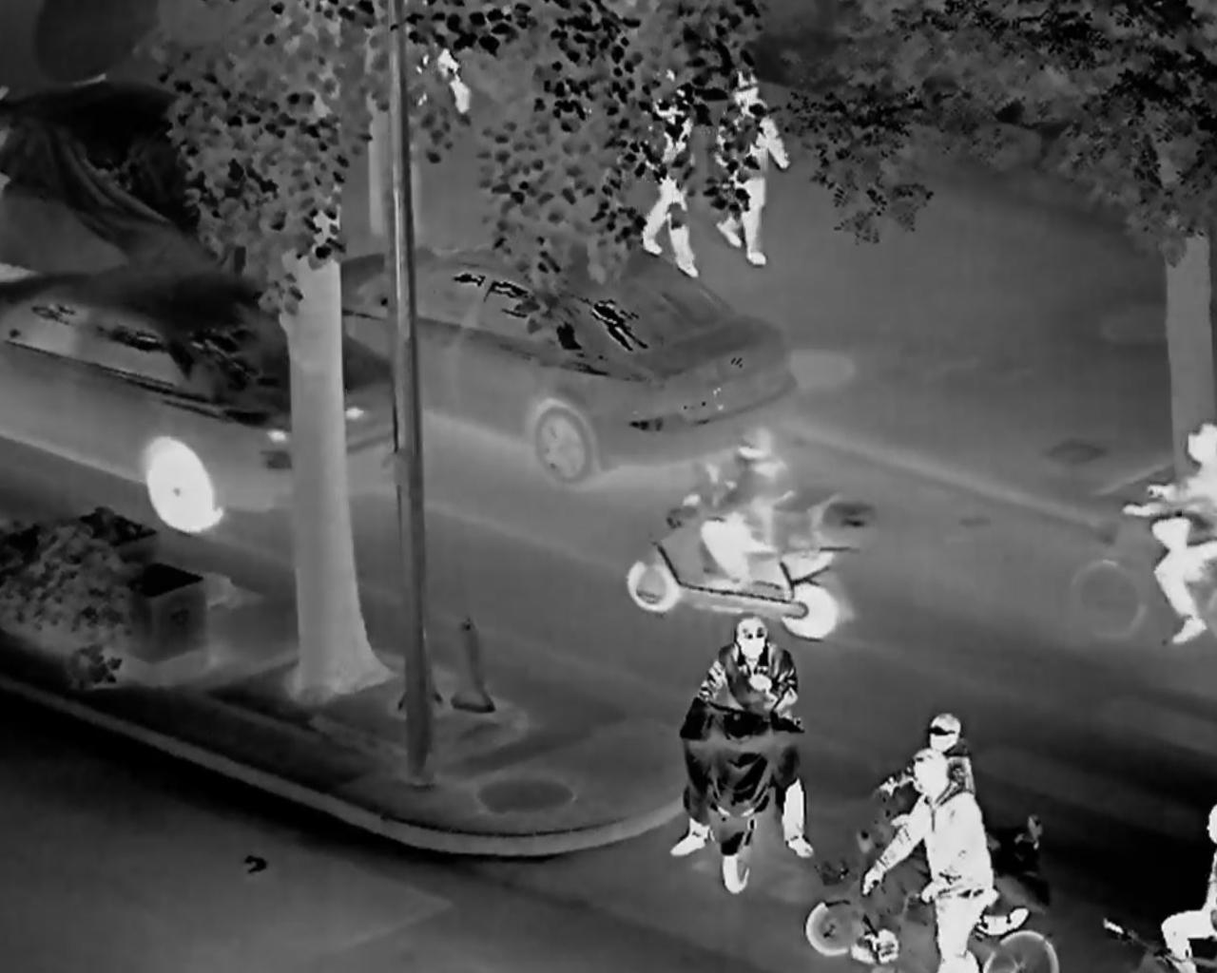person: (668, 605, 827, 872), (846, 751, 1026, 963), (1120, 409, 1217, 642), (613, 59, 712, 282), (692, 411, 791, 607), (697, 59, 787, 271), (888, 695, 981, 807), (1161, 797, 1216, 973)
